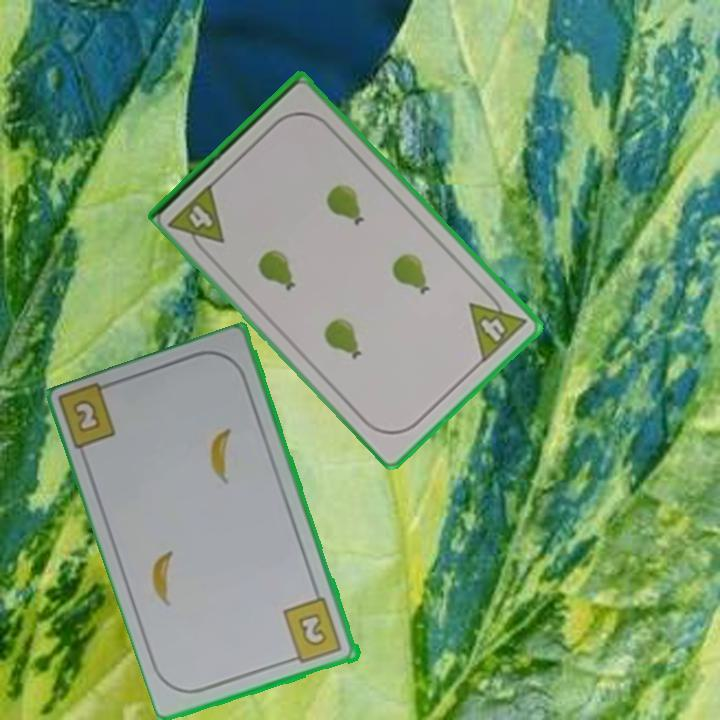2b: (280, 594, 346, 667), (72, 399, 101, 433)
4p: (465, 285, 530, 366), (165, 179, 228, 259)
